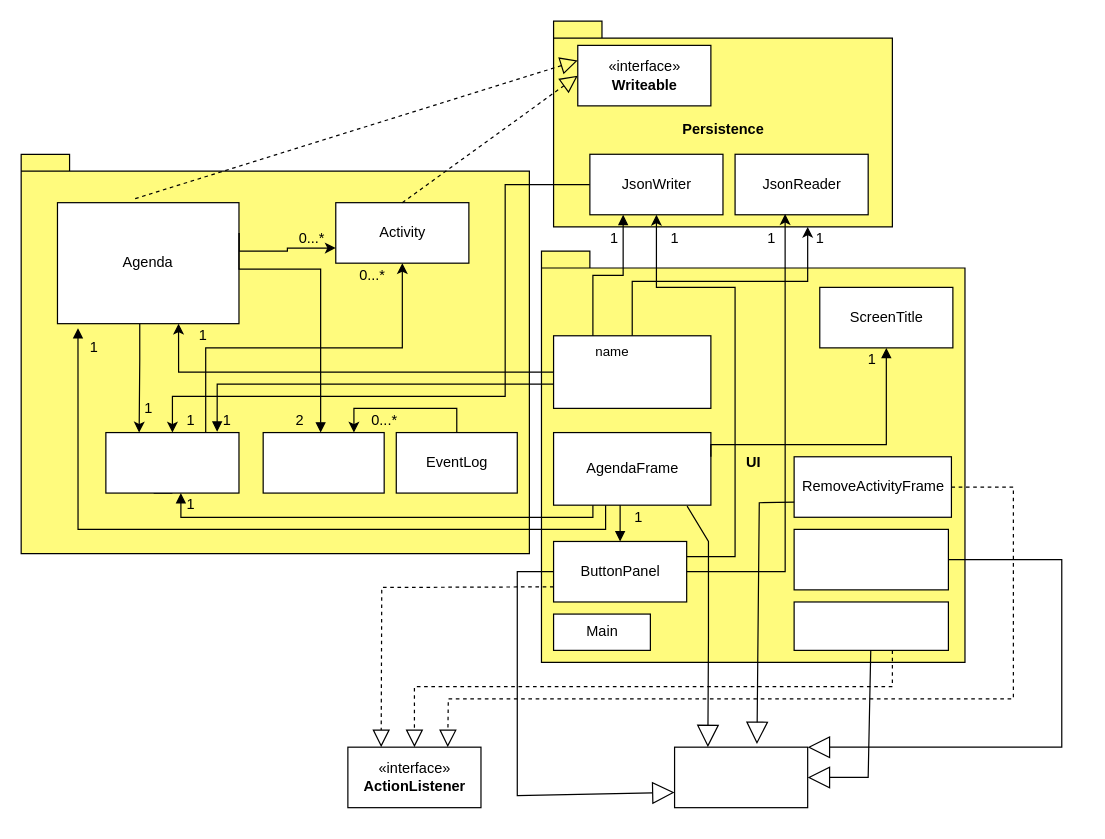
Some shapes in this 1105 by 839 pixel diagram are drawn without their labels. Each missing label, with the box of its shape:
ActivityAgendaApp: (552, 335, 711, 408)
AddActivitiesFrame: (793, 601, 948, 650)
Event: (262, 431, 384, 493)
InProgress: (105, 431, 239, 493)
JFrame: (673, 746, 808, 808)
Model: (20, 153, 529, 554)
SeeActivitiesFrame: (793, 528, 948, 590)
